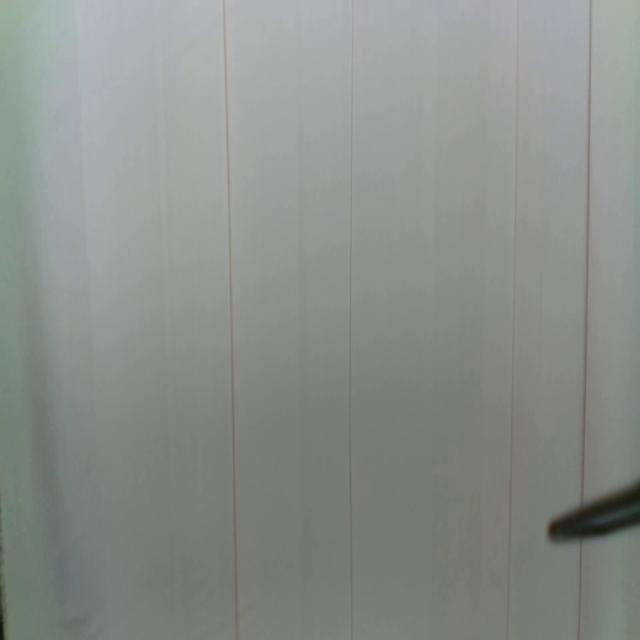crease: (222, 0, 240, 640), (506, 0, 522, 640), (579, 0, 593, 499), (346, 0, 355, 639), (576, 542, 584, 640)
